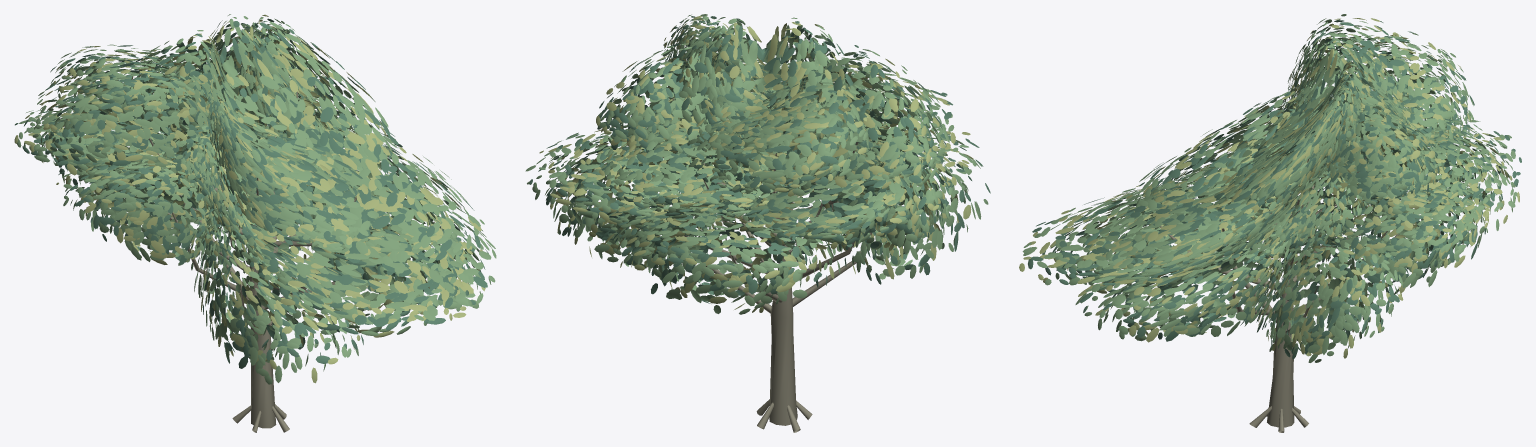
File: grove_4.glb
3 views of the same model, side by side, from view 1: azimuth 30°, elevation 25°; view 2: azimuth 150°, elevation 25°; view 3: azimuth 270°, elevation 25° (orthographic). The views are drawn at different scales.
Parts seen in each view (by area): view 1: study_canopy_1_StudyLeafJade, study_canopy_1_StudyLeafDeep, study_canopy_1_StudyLeafGold, study_canopy_1_StudyBark; view 2: study_canopy_1_StudyLeafJade, study_canopy_1_StudyLeafDeep, study_canopy_1_StudyLeafGold, study_canopy_1_StudyBark; view 3: study_canopy_1_StudyLeafJade, study_canopy_1_StudyLeafDeep, study_canopy_1_StudyLeafGold, study_canopy_1_StudyBark.
Part boxes in pixels (bbox=[...]): study_canopy_1_StudyLeafJade: bbox=[16, 14, 496, 384]; study_canopy_1_StudyLeafDeep: bbox=[15, 18, 488, 368]; study_canopy_1_StudyLeafGold: bbox=[14, 14, 485, 383]; study_canopy_1_StudyBark: bbox=[115, 91, 356, 432]; study_canopy_1_StudyLeafJade: bbox=[525, 14, 988, 314]; study_canopy_1_StudyLeafDeep: bbox=[529, 16, 990, 303]; study_canopy_1_StudyLeafGold: bbox=[539, 16, 973, 312]; study_canopy_1_StudyBark: bbox=[644, 97, 875, 432]; study_canopy_1_StudyLeafJade: bbox=[1022, 14, 1517, 362]; study_canopy_1_StudyLeafDeep: bbox=[1028, 20, 1521, 359]; study_canopy_1_StudyLeafGold: bbox=[1019, 18, 1519, 358]; study_canopy_1_StudyBark: bbox=[1160, 84, 1427, 432].
Size of the model in its own units: 9.61 by 10.15 by 12.54.
